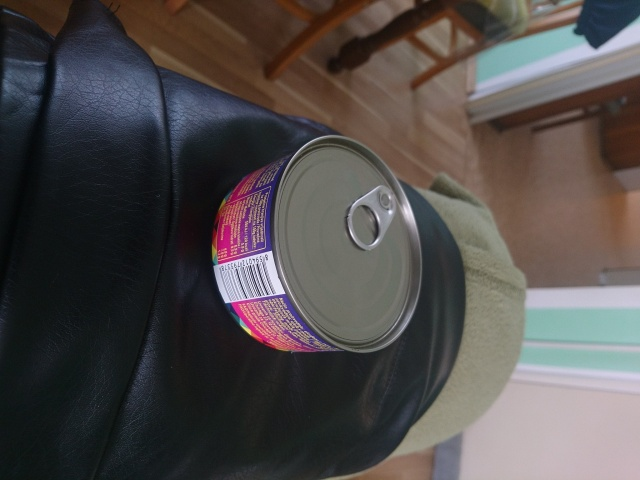Giana Tuna Salad Mexico 185g: (207, 131, 426, 357)
